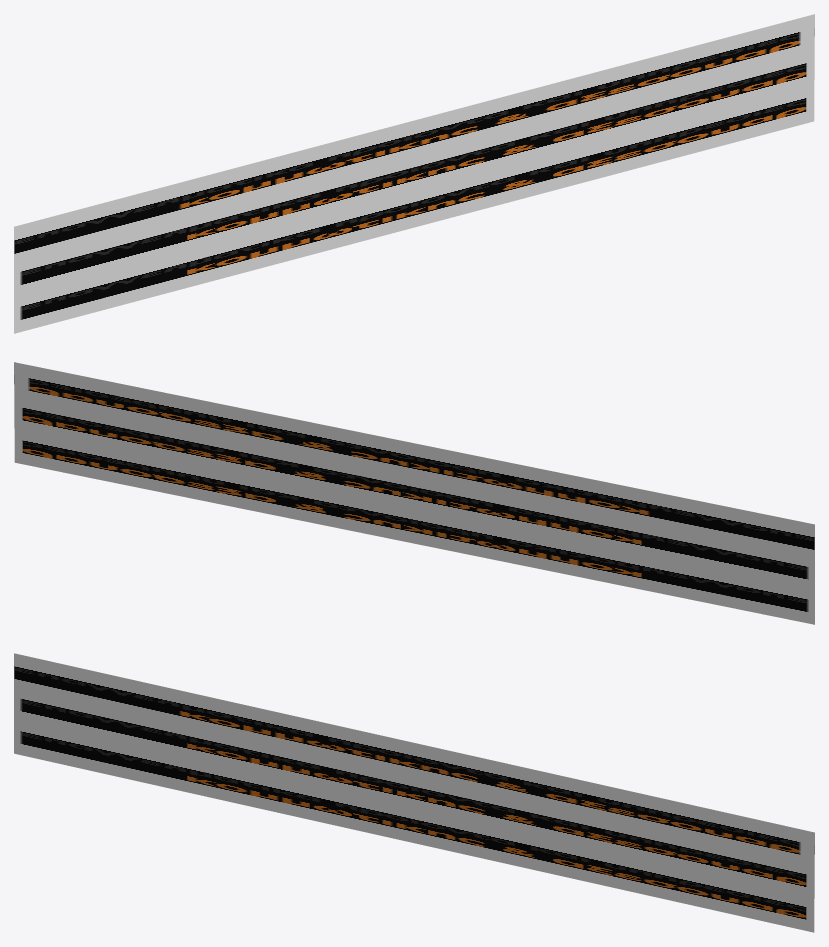
File: door_text.glb
The picture shows the model from 3 angles, top to bottom: view 1: azimuth 30°, elevation 25°; view 2: azimuth 150°, elevation 25°; view 3: azimuth 330°, elevation 25°; orthographic projection. The views are drawn at different scales.
Visible parts, largest first — view 1: Doors_Text; view 2: Doors_Text; view 3: Doors_Text.
Part boxes in pixels (left/top/right/bottom): Doors_Text: left=14, top=14, right=814, bottom=333; Doors_Text: left=14, top=362, right=814, bottom=624; Doors_Text: left=14, top=653, right=814, bottom=932.
Size of the model in its own units: 4.62 by 0.6199 by 0.2603.
Materials: 1 (1 with a texture image).
